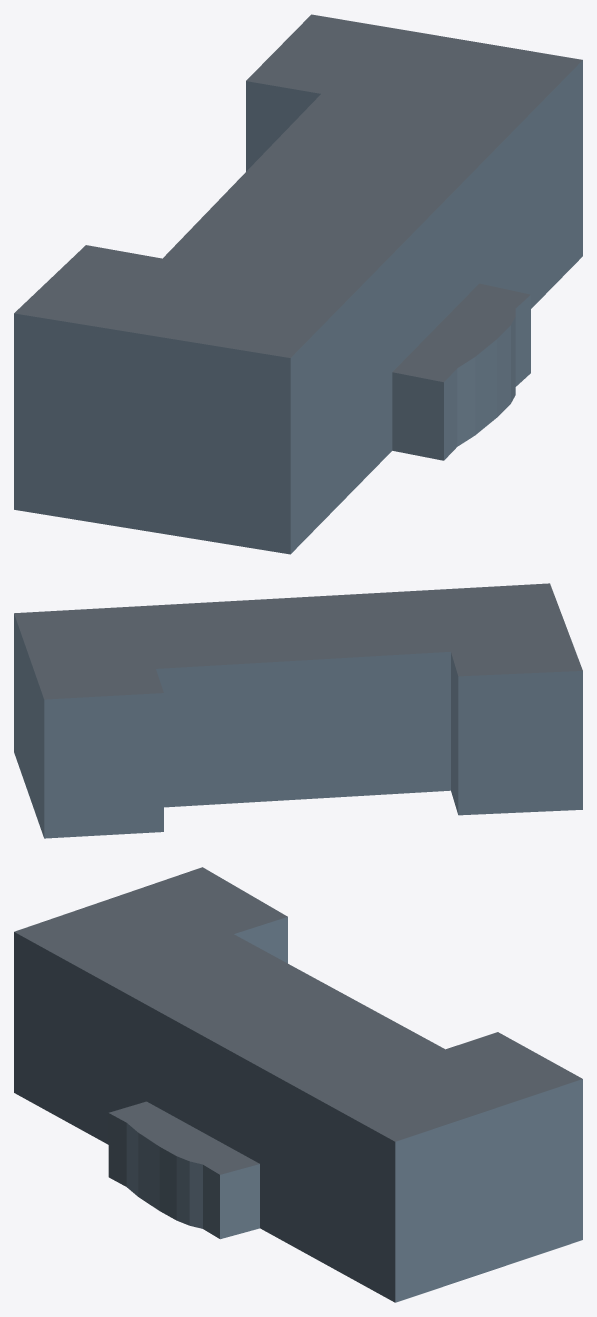
3 views of the same model, one above another, from view 1: azimuth 30°, elevation 25°; view 2: azimuth 150°, elevation 25°; view 3: azimuth 270°, elevation 25° (orthographic). The views are drawn at different scales.
Visible parts, largest first — view 1: HP-w178801539; view 2: HP-w178801539; view 3: HP-w178801539.
Part boxes in pixels (x1,y1,x2,y2): HP-w178801539: (14, 14, 582, 554); HP-w178801539: (14, 583, 582, 838); HP-w178801539: (14, 867, 582, 1302).
Bounding box in the file's own units: 183 × 50 × 160.
